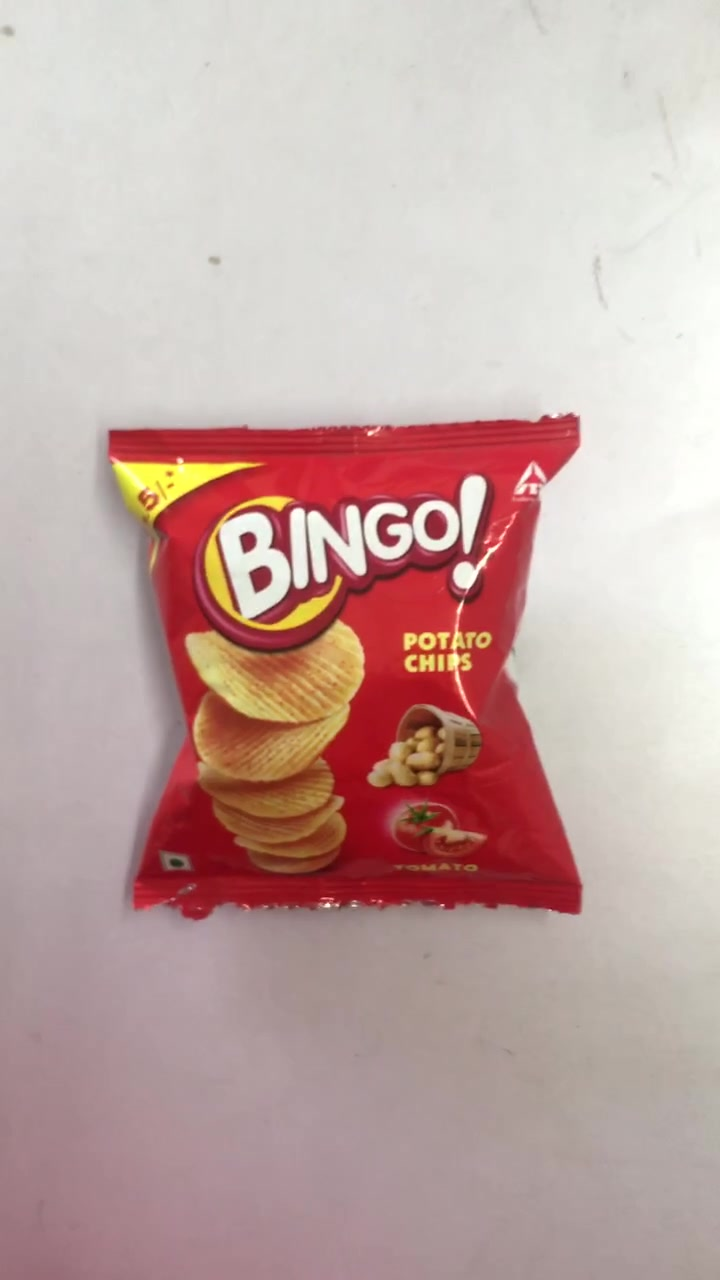Bingo: (108, 431, 584, 910)
